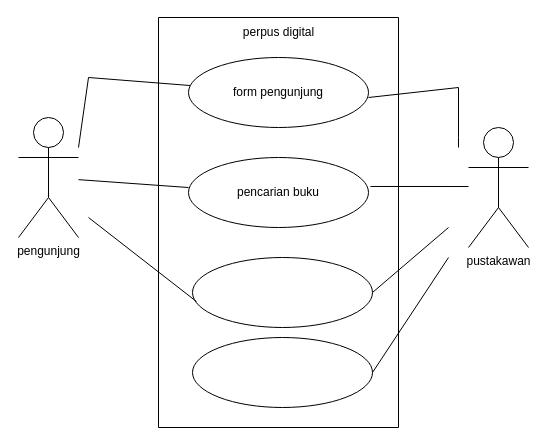
Some shapes in this 548 by 445 pixel diagram are drawn without their labels. The box of each missing label's shape, as (x1, y1, x2, y2) in pixels:
detail buku: (192, 256, 372, 328)
laporan setatistik: (192, 336, 372, 408)
